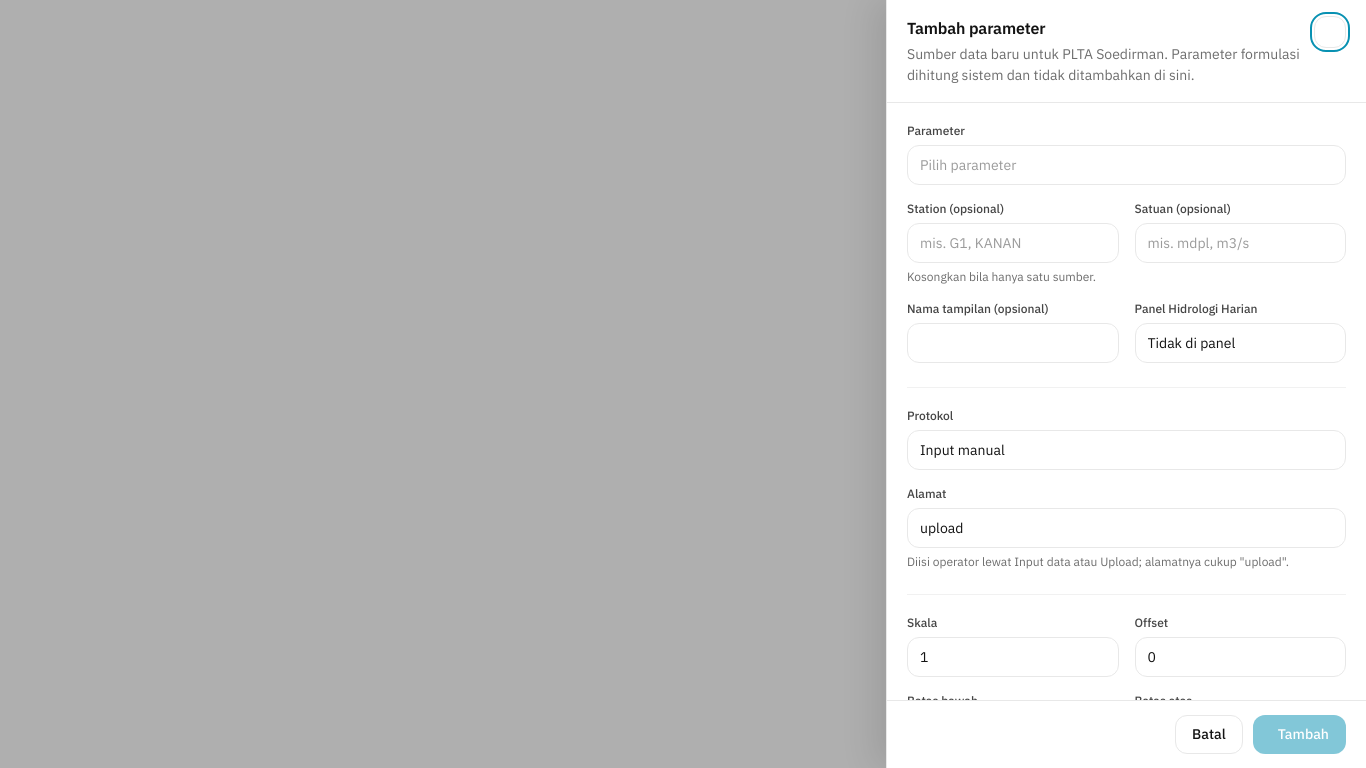
Test: sheet tambah parameter › isian tanpa parameter ditahan di form, tanpa permintaan ke server
Type "G1" into the field labelled "Station (opsional)". click: point(1013, 243)
box: top-left (907, 223), bottom-right (1118, 263)
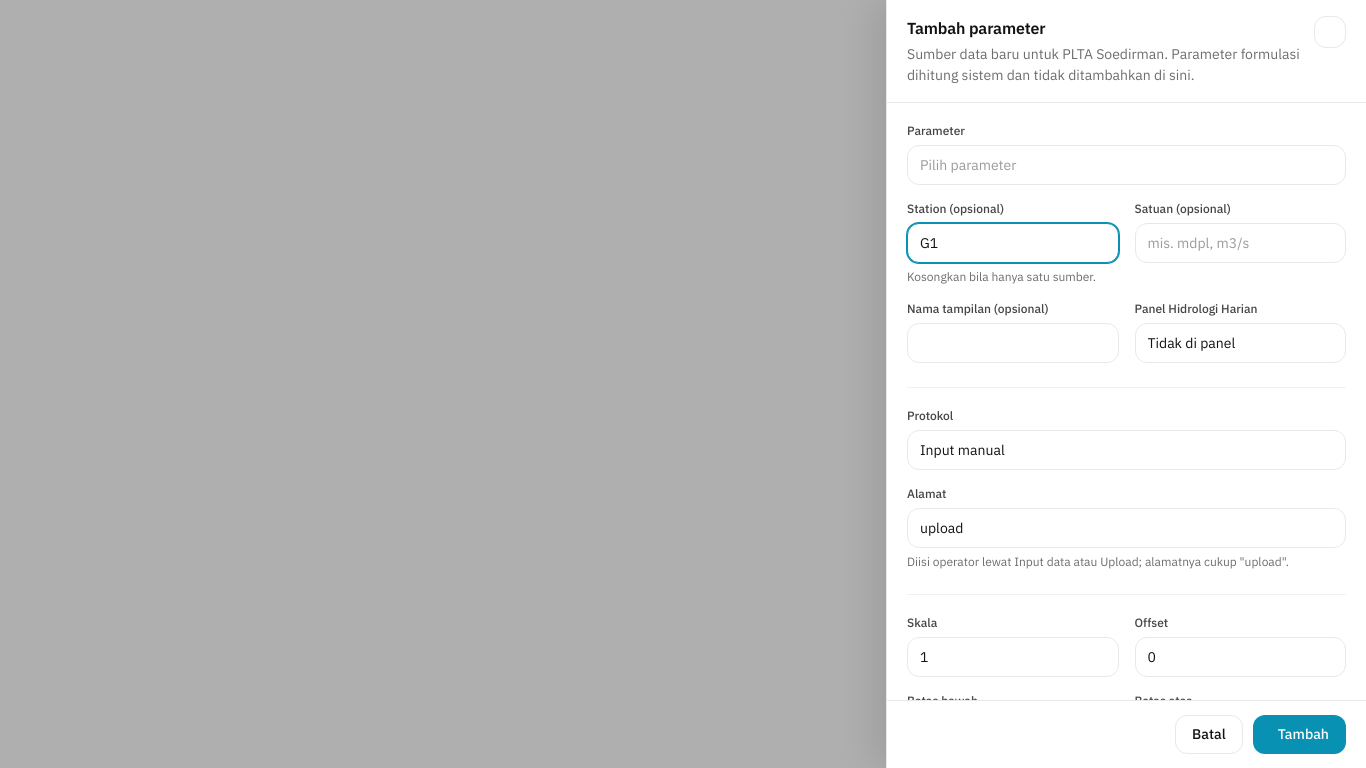
Click the button "Tambah". click: point(1299, 734)
box: top-left (1253, 715), bottom-right (1346, 754)
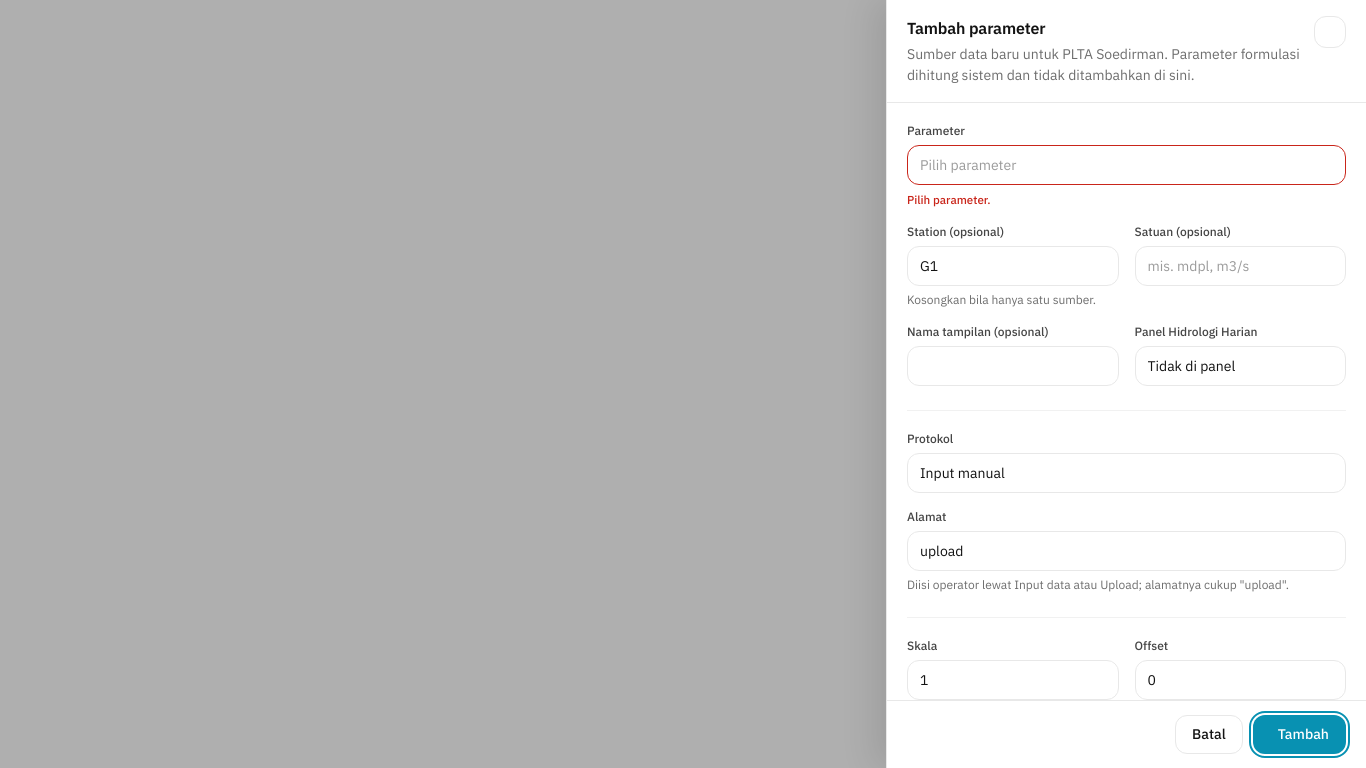
Check: the text "Pilih parameter." is shown, box top-left (907, 192), bottom-right (991, 207)
